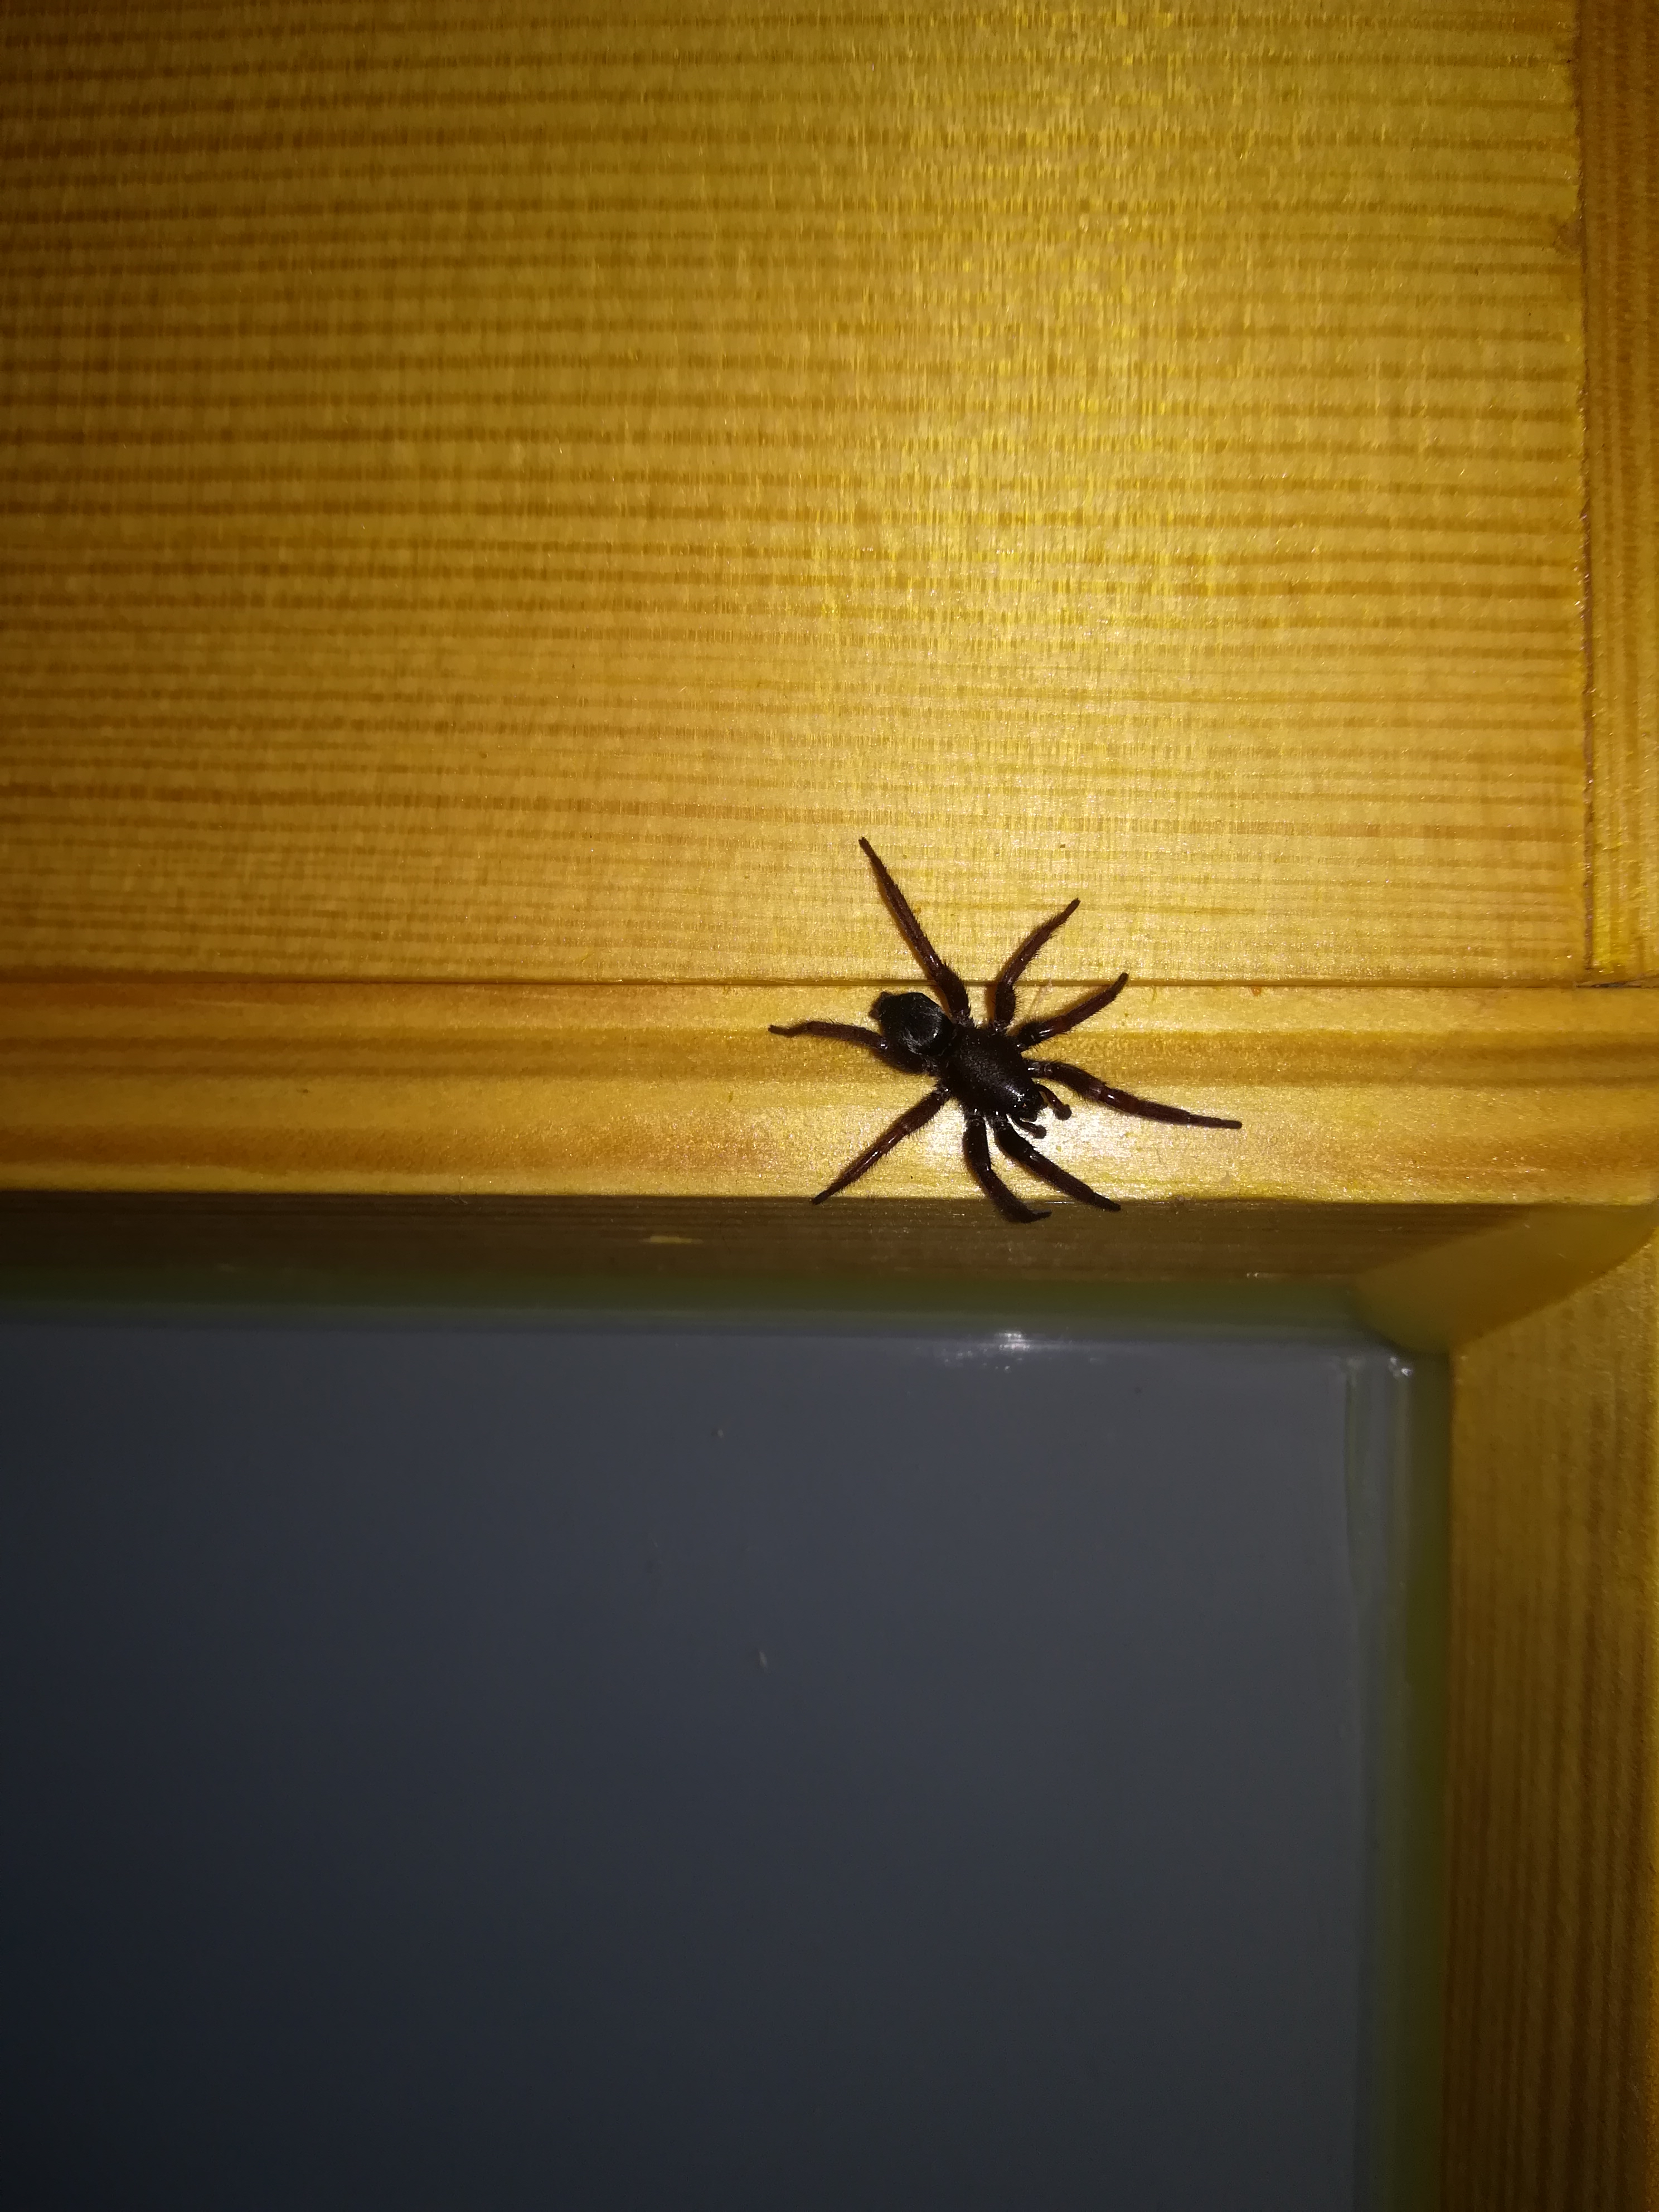spider: (739, 810, 1253, 1251)
